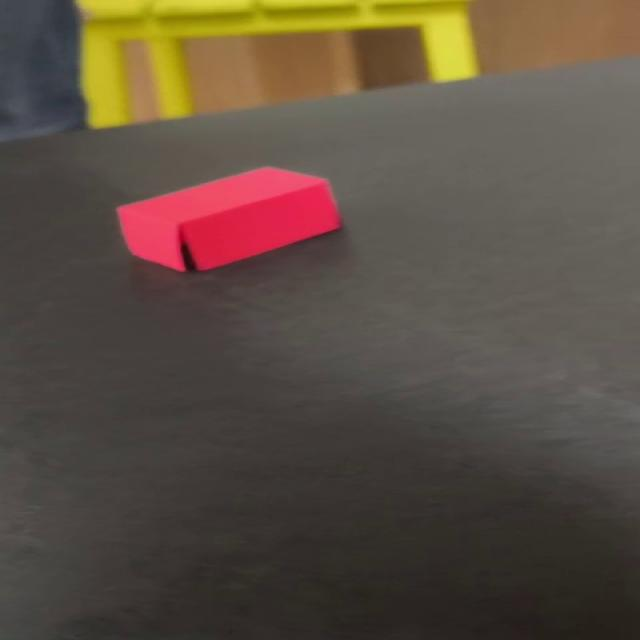red block: (115, 165, 342, 273)
